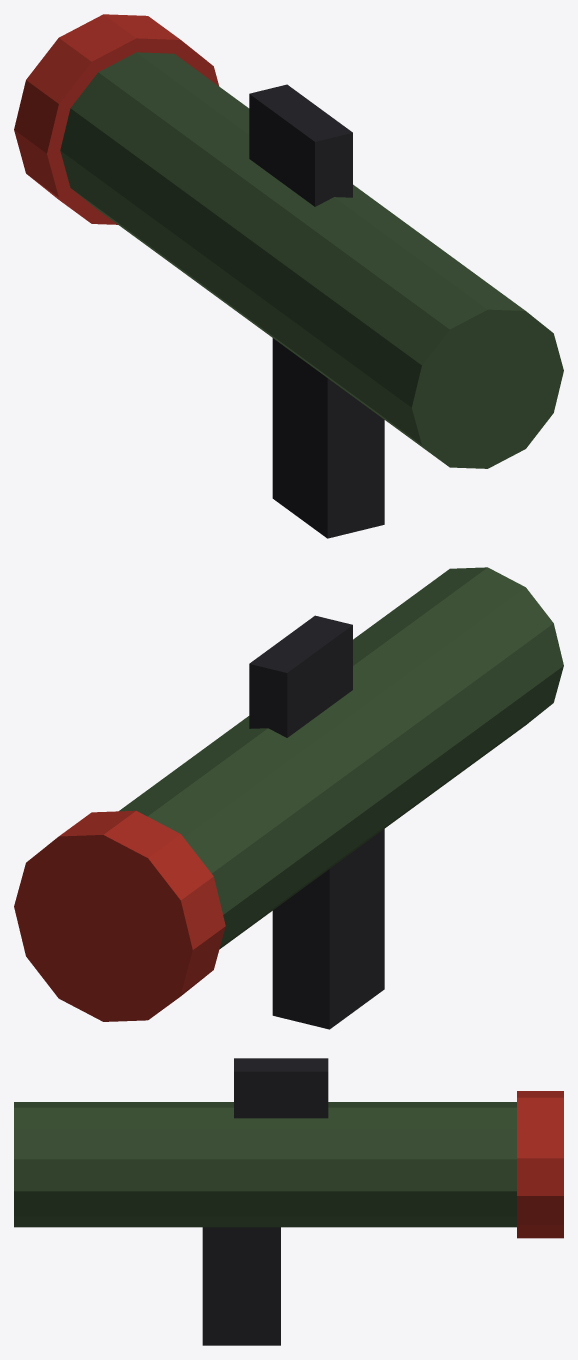
3 renders of one model, top to bottom at view 1: azimuth 30°, elevation 25°; view 2: azimuth 150°, elevation 25°; view 3: azimuth 270°, elevation 25°, orthographic. The views are drawn at different scales.
Parts seen in each view (by area): view 1: rl; view 2: rl; view 3: rl.
Boxes of the visible parts, x1,y1,x2,y2 form: rl: (14,14,563,538); rl: (14,567,563,1029); rl: (14,1058,563,1345).
Size of the model in its own units: 0.094 by 0.19 by 0.35.
